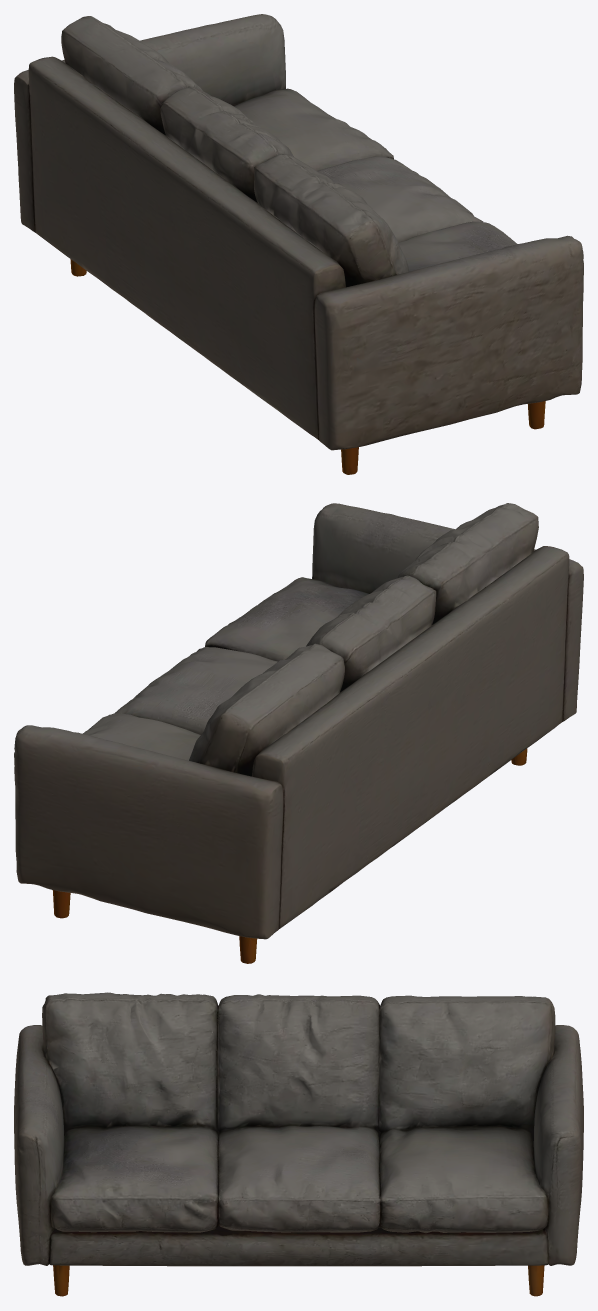
The model's file is couch.glb.
3 views of the same model, one above another, from view 1: azimuth 30°, elevation 25°; view 2: azimuth 150°, elevation 25°; view 3: azimuth 270°, elevation 25° (orthographic). The views are drawn at different scales.
Visible parts, largest first — view 1: tripo_node_cb37fe7d-be44-4a81-b97f-d4140561b7ff; view 2: tripo_node_cb37fe7d-be44-4a81-b97f-d4140561b7ff; view 3: tripo_node_cb37fe7d-be44-4a81-b97f-d4140561b7ff.
Boxes of the visible parts, left/top/right/bottom form: tripo_node_cb37fe7d-be44-4a81-b97f-d4140561b7ff: left=14, top=14, right=583, bottom=474; tripo_node_cb37fe7d-be44-4a81-b97f-d4140561b7ff: left=14, top=503, right=583, bottom=963; tripo_node_cb37fe7d-be44-4a81-b97f-d4140561b7ff: left=14, top=992, right=583, bottom=1296.
Bounding box in the file's own units: 0.9747 × 0.8501 × 1.97.
1 material, 1 textured.
